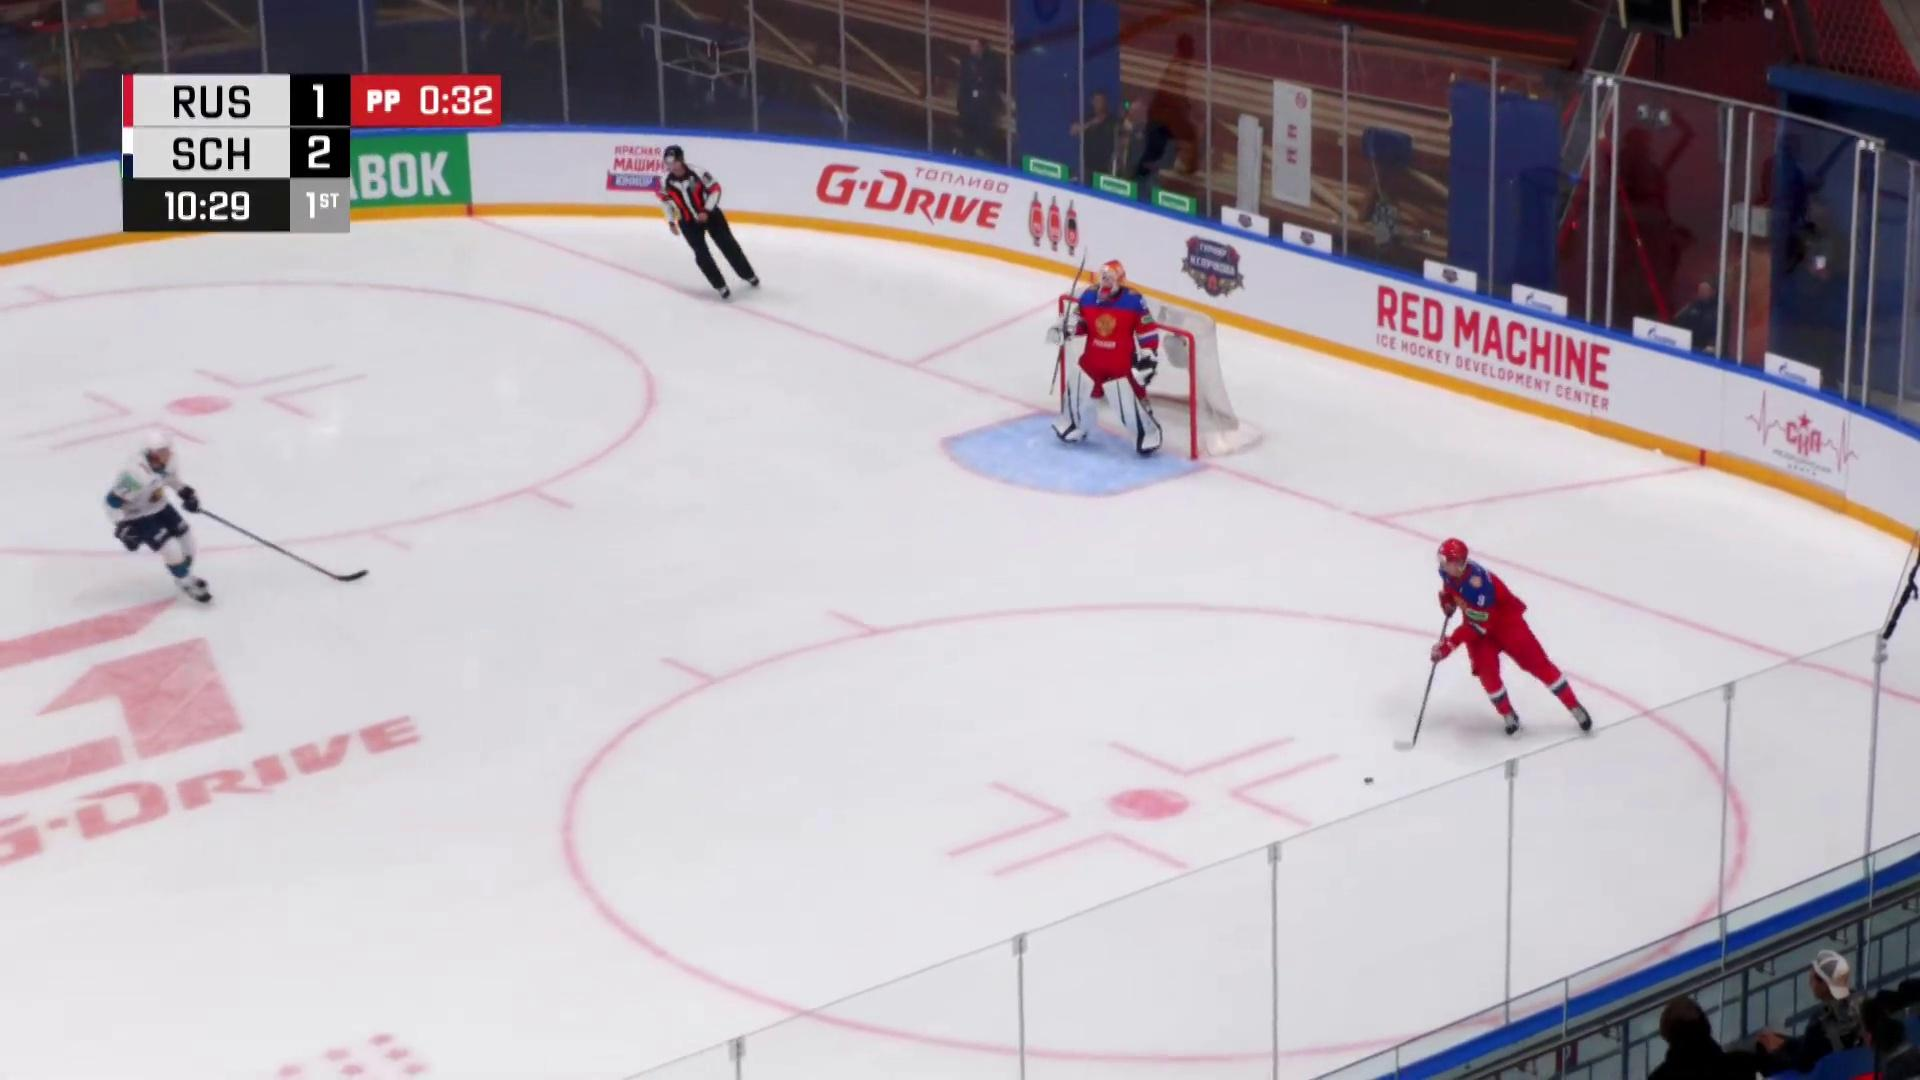ball: (1364, 777, 1375, 786)
